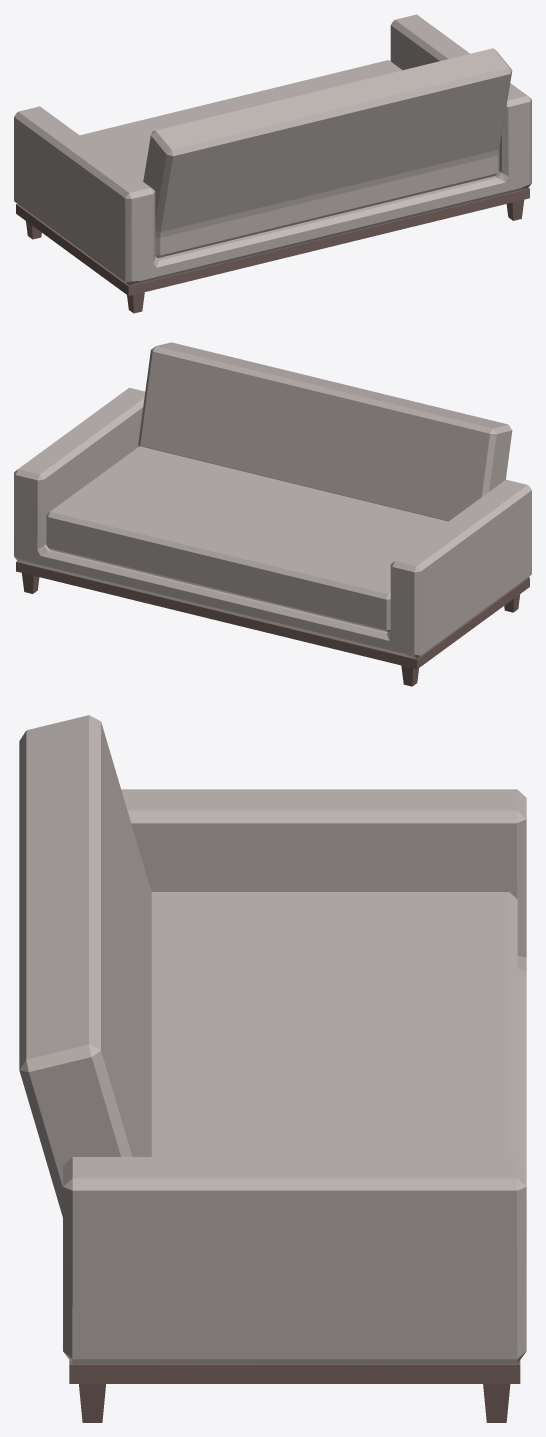
Rendered from white_couch.glb.
3 views of the same model, one above another, from view 1: azimuth 30°, elevation 25°; view 2: azimuth 150°, elevation 25°; view 3: azimuth 270°, elevation 25° (orthographic). The views are drawn at different scales.
Parts seen in each view (by area): view 1: furniture_006; view 2: furniture_006; view 3: furniture_006.
Part boxes in pixels (left/top/right/bottom): furniture_006: left=14, top=14, right=531, bottom=313; furniture_006: left=14, top=342, right=531, bottom=686; furniture_006: left=19, top=715, right=526, bottom=1422.
Size of the model in its own units: 1.56 by 0.6435 by 0.8401.
